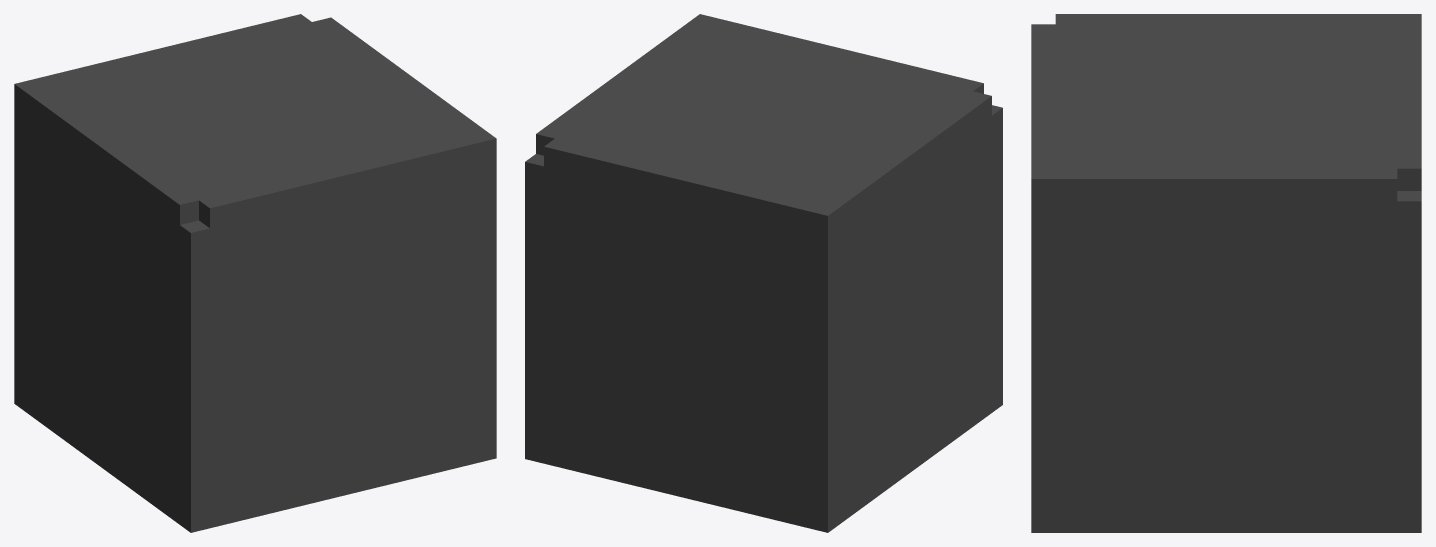
The model's file is Moyou1.obj.
The picture shows the model from 3 angles, left to right: view 1: azimuth 30°, elevation 25°; view 2: azimuth 150°, elevation 25°; view 3: azimuth 270°, elevation 25°; orthographic projection. The views are drawn at different scales.
Parts seen in each view (by area): view 1: Moyou1; view 2: Moyou1; view 3: Moyou1.
Boxes of the visible parts, bbox=[...] form: Moyou1: bbox=[14, 14, 496, 532]; Moyou1: bbox=[525, 14, 1002, 532]; Moyou1: bbox=[1031, 14, 1421, 532].
Bounding box in the file's own units: 16 × 16 × 16.
Materials: 1 (1 with a texture image).
